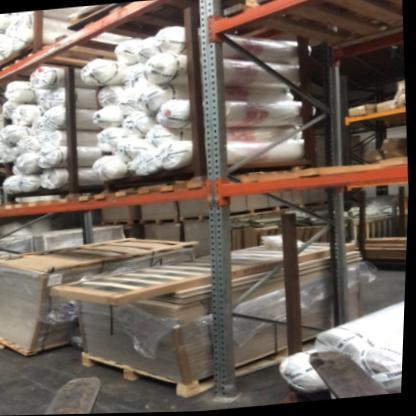vertical_damage: (207, 375, 251, 407)
